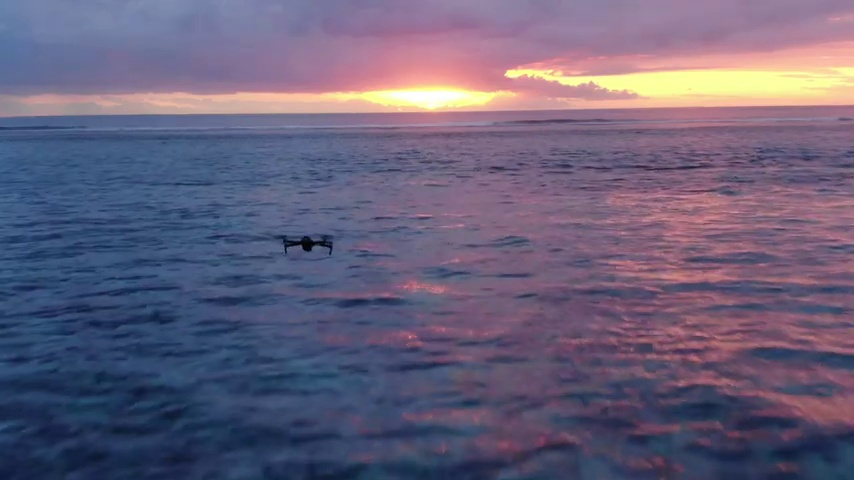drone: (280, 233, 334, 257)
